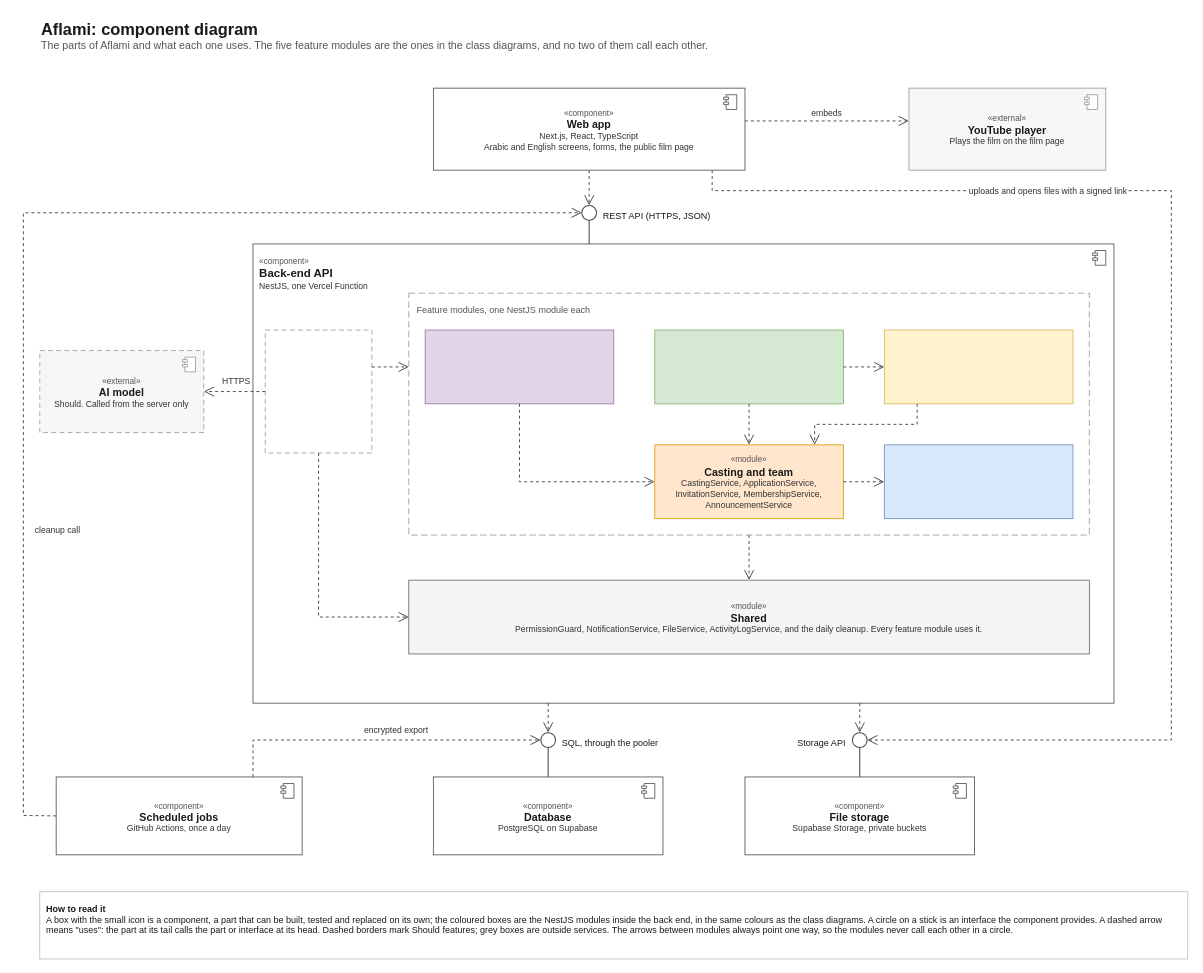
Some shapes in this 1203 by 973 pixel diagram are drawn without their labels. The centre of each missing label's shape, as x and y in pixels:
«module» Accounts AccountService: point 978,481
«module» AI drafts Should. A background job (Vercel Workflows): point 318,391
«module» Film page CreditService, RatingService: point 978,366
«module» Projects ProjectService, ScriptService: point 748,366
«module» Tasks TaskService: point 519,366
